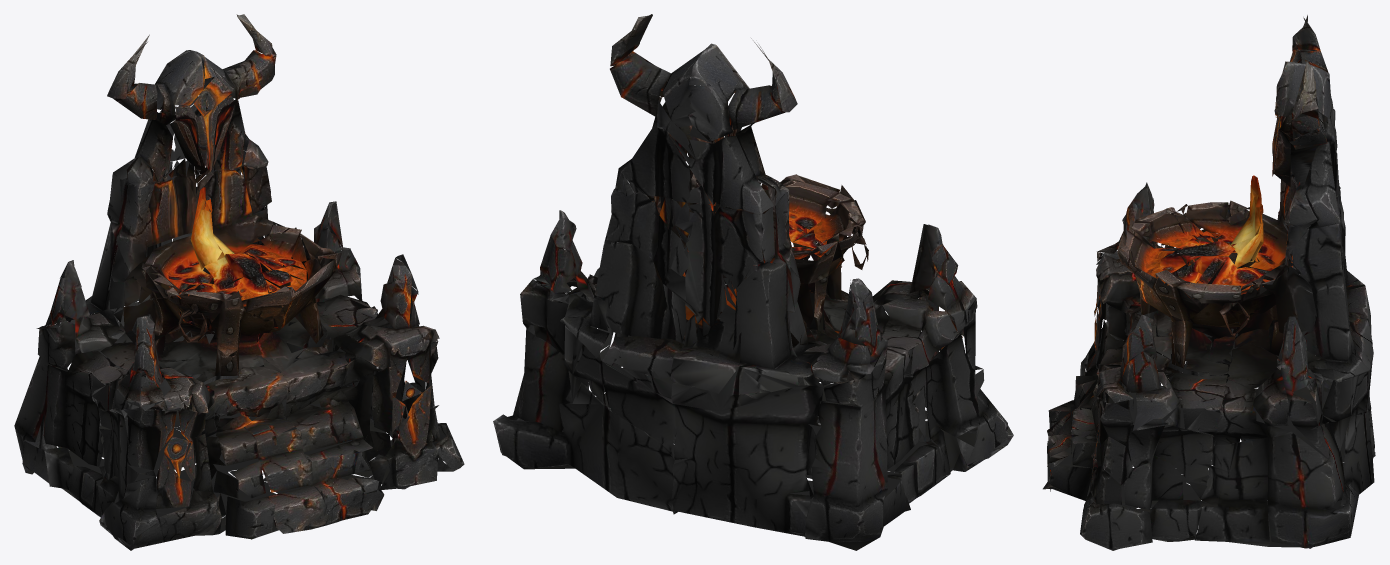
File: AshShrine.fbx
The picture shows the model from 3 angles, left to right: view 1: azimuth 30°, elevation 25°; view 2: azimuth 150°, elevation 25°; view 3: azimuth 270°, elevation 25°; orthographic projection. The views are drawn at different scales.
Visible parts, largest first — view 1: AshShrine_Body; view 2: AshShrine_Body; view 3: AshShrine_Body.
Boxes of the visible parts, box(x1,y1,x2,y2) form: AshShrine_Body: box(14, 14, 464, 550); AshShrine_Body: box(493, 14, 1013, 550); AshShrine_Body: box(1043, 15, 1375, 550).
Bounding box in the file's own units: 0.824 × 1 × 0.685.
1 material, 1 textured.
